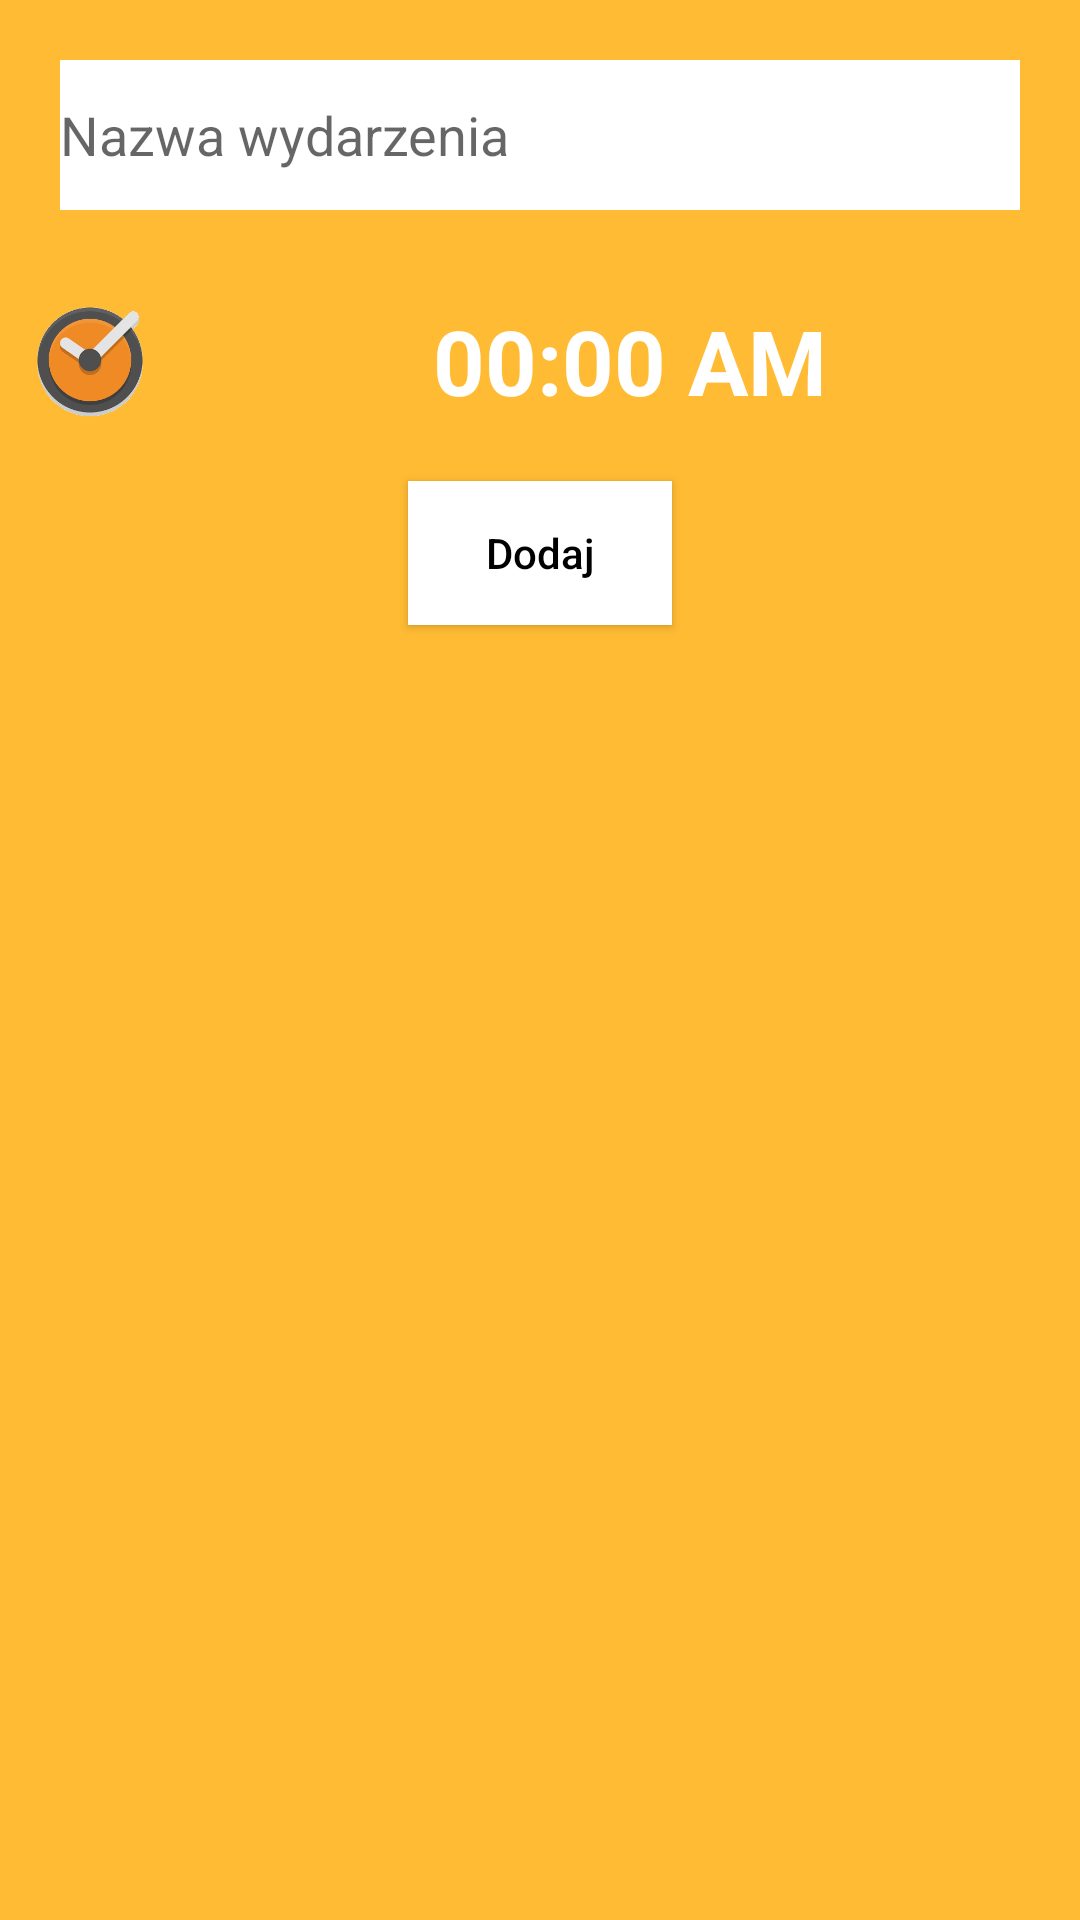

Point at icon controls on the screen. Image size 1080 × 1920, points as (x=x, y=y).
timeicon: (x=90, y=361)
